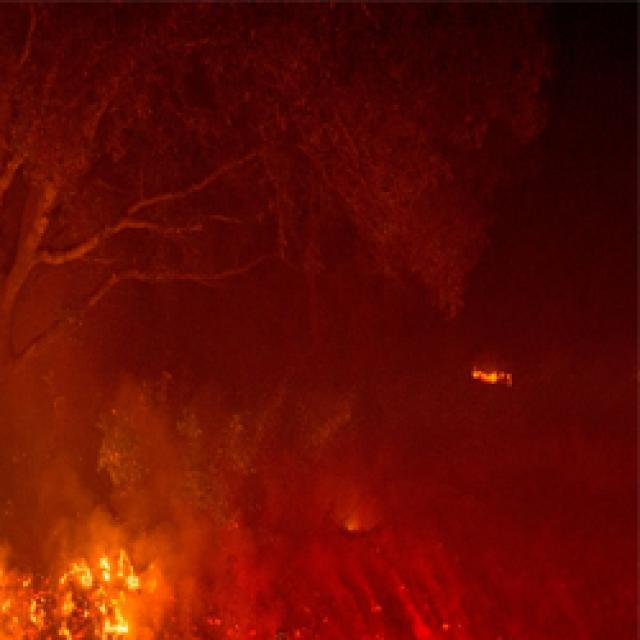Fire: (0, 519, 185, 640), (455, 348, 528, 412)
Smoke: (0, 376, 640, 639)
